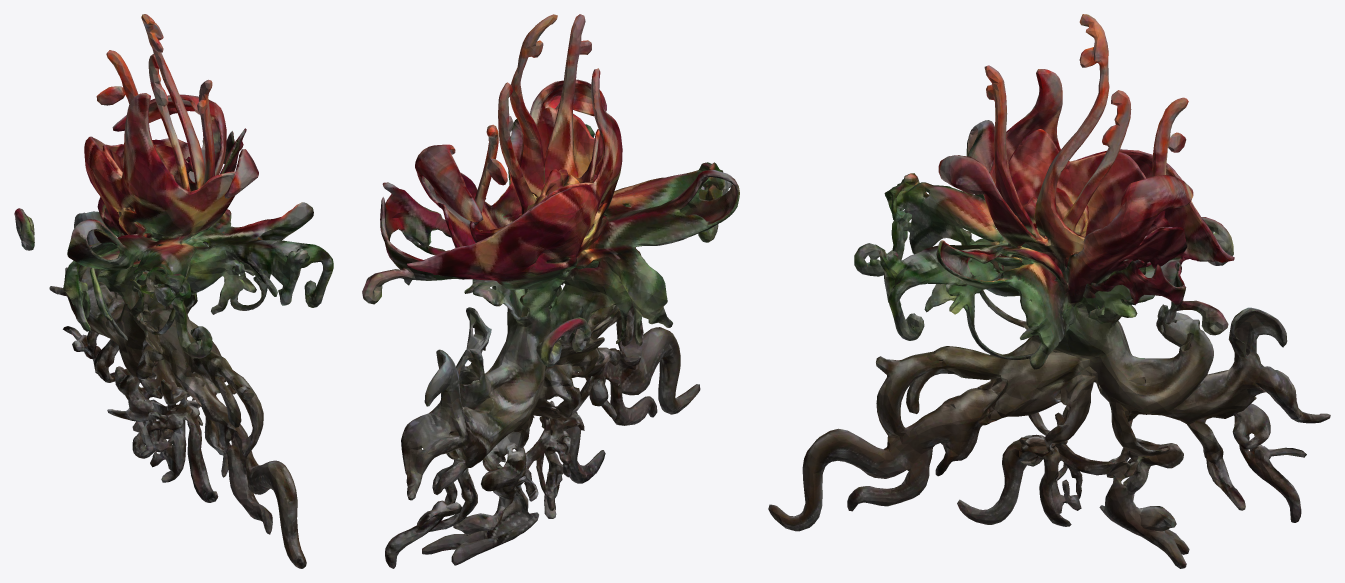
The model's file is gargantua_megalus.glb.
3 renders of one model, left to right at view 1: azimuth 30°, elevation 25°; view 2: azimuth 150°, elevation 25°; view 3: azimuth 270°, elevation 25°, orthographic. The views are drawn at different scales.
Size of the model in its own units: 1.1 by 1.99 by 1.96.
Materials: 1 (1 with a texture image).
